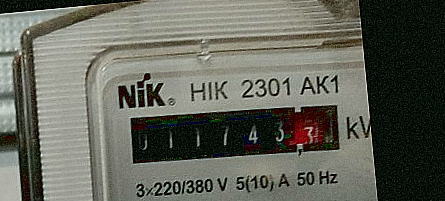0: (133, 124, 150, 152)
1: (160, 121, 177, 150), (188, 120, 204, 149)
3: (269, 116, 286, 144), (299, 123, 316, 145)
4: (244, 119, 260, 146)
7: (215, 120, 232, 146)
screen: (119, 91, 350, 176)
